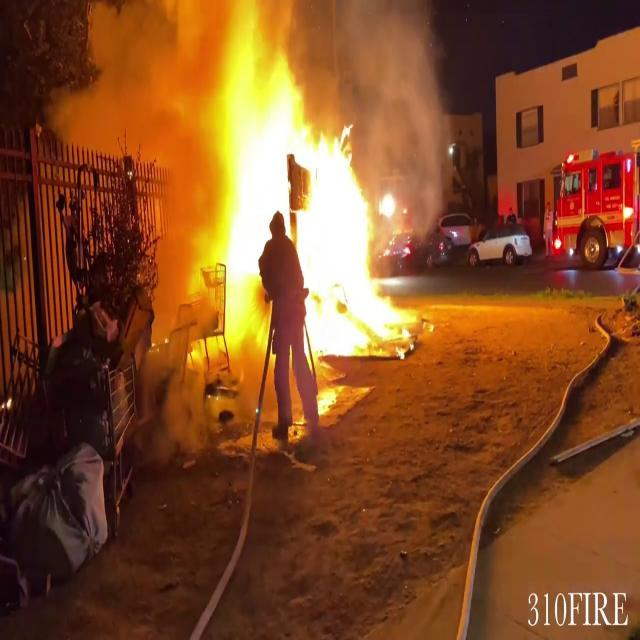Fire: (187, 6, 416, 358)
Smoke: (314, 1, 462, 190)
